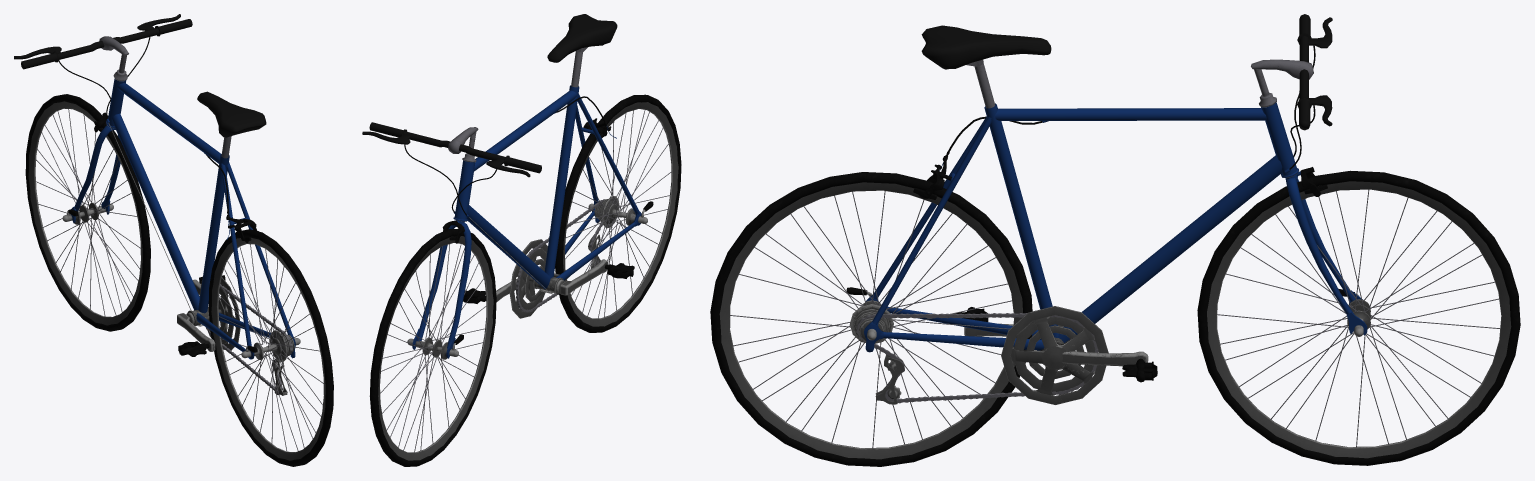
The model's file is frl_apartment_bike_01.glb.
3 renders of one model, left to right at view 1: azimuth 30°, elevation 25°; view 2: azimuth 150°, elevation 25°; view 3: azimuth 270°, elevation 25°, orthographic. The views are drawn at different scales.
Parts seen in each view (by area): view 1: frl_apartment_bike_01.001; view 2: frl_apartment_bike_01.001; view 3: frl_apartment_bike_01.001.
Part boxes in pixels (left/top/right/bottom): frl_apartment_bike_01.001: left=14, top=14, right=333, bottom=466; frl_apartment_bike_01.001: left=362, top=14, right=681, bottom=466; frl_apartment_bike_01.001: left=710, top=14, right=1520, bottom=466.
Size of the model in its own units: 0.5344 by 0.9753 by 1.67.
Materials: 1 (1 with a texture image).
